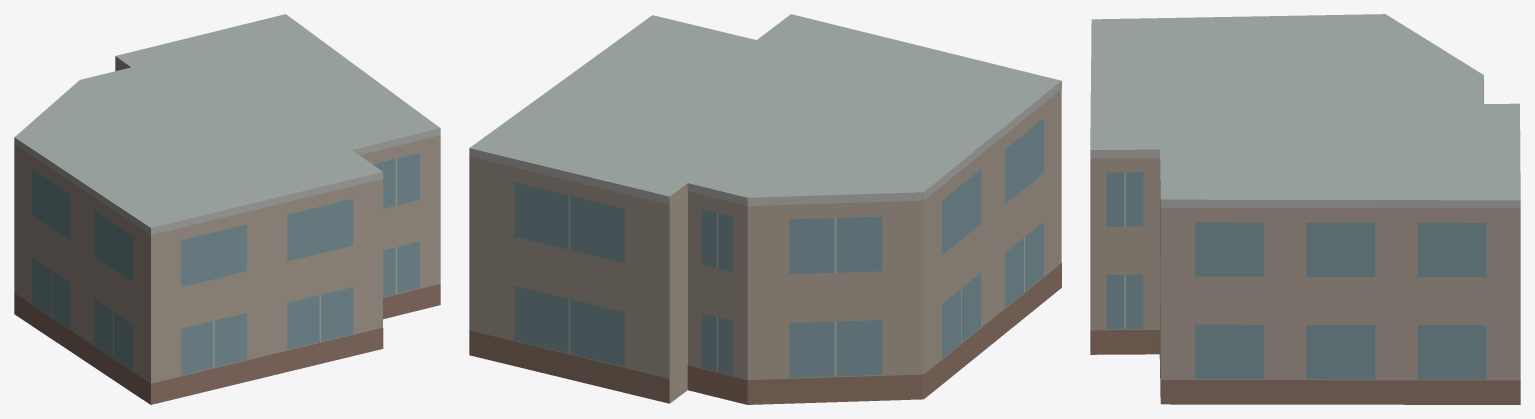
The model's file is survey-upis-32909388.glb.
3 views of the same model, side by side, from view 1: azimuth 30°, elevation 25°; view 2: azimuth 150°, elevation 25°; view 3: azimuth 270°, elevation 25° (orthographic). The views are drawn at different scales.
Parts seen in each view (by area): view 1: survey-upis-32909388.tmp; view 2: survey-upis-32909388.tmp; view 3: survey-upis-32909388.tmp.
Boxes of the visible parts, x1,y1,x2,y2 form: survey-upis-32909388.tmp: [14, 14, 440, 404]; survey-upis-32909388.tmp: [469, 14, 1061, 404]; survey-upis-32909388.tmp: [1090, 14, 1520, 404].
Bounding box in the file's own units: 11.91 × 6.1 × 11.64.
